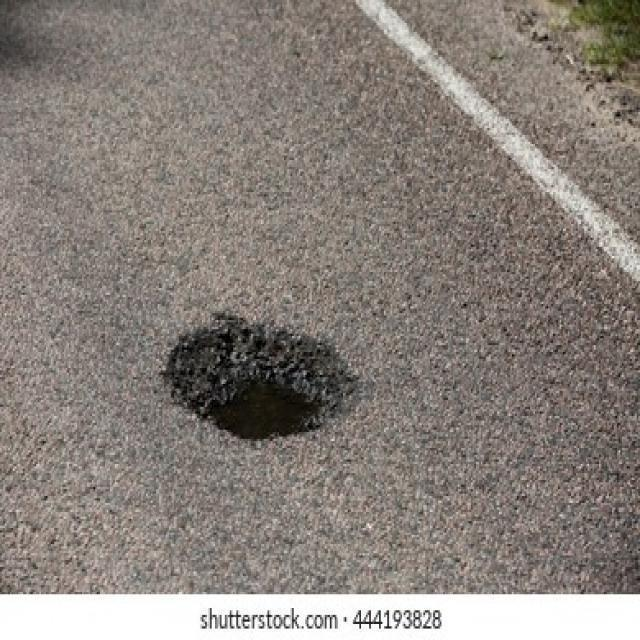pothole: (156, 304, 361, 446)
